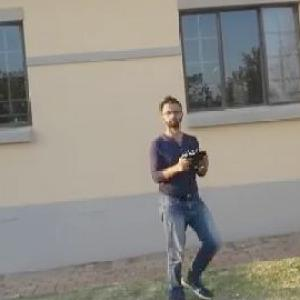follow: (144, 92, 226, 299)
